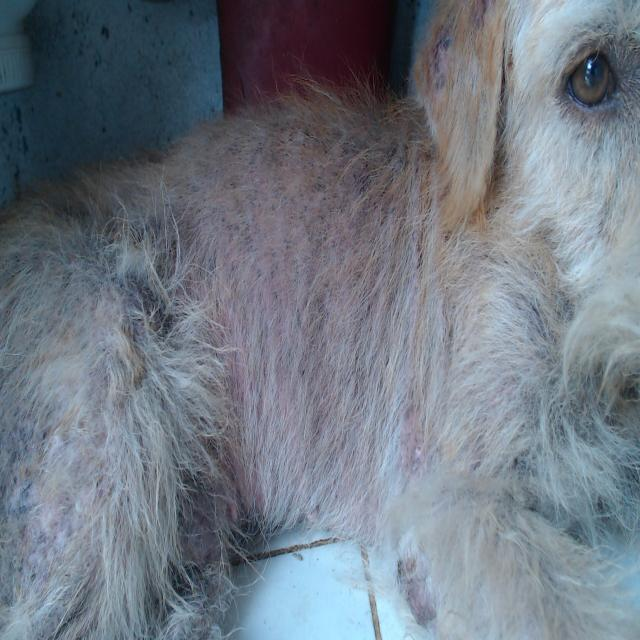demodicosis: (232, 168, 383, 409), (17, 424, 78, 585), (431, 13, 461, 94)
